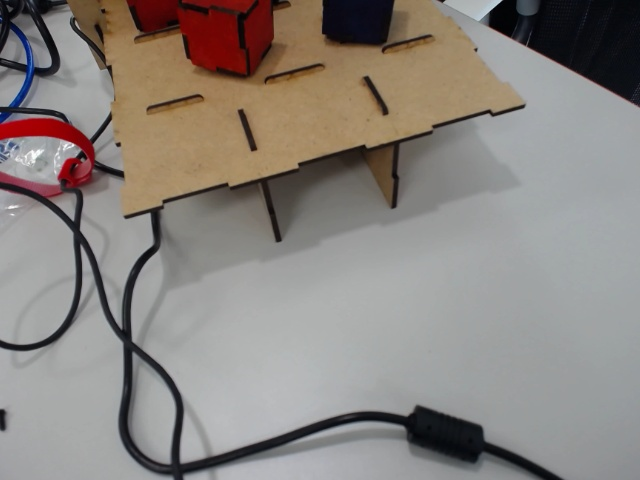blue: (319, 1, 395, 44)
red: (176, 1, 274, 77), (126, 1, 190, 36)
